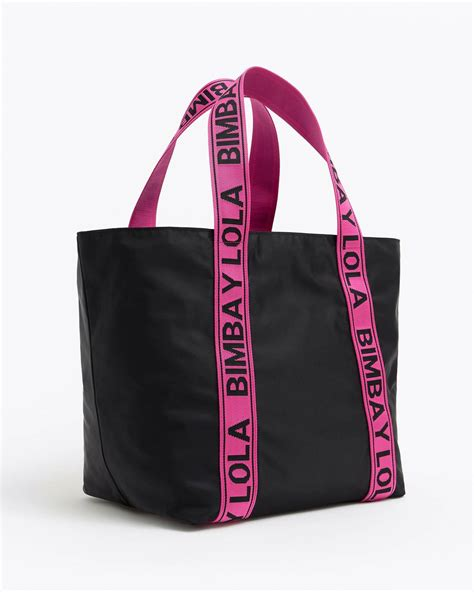nylon: (73, 65, 406, 530)
